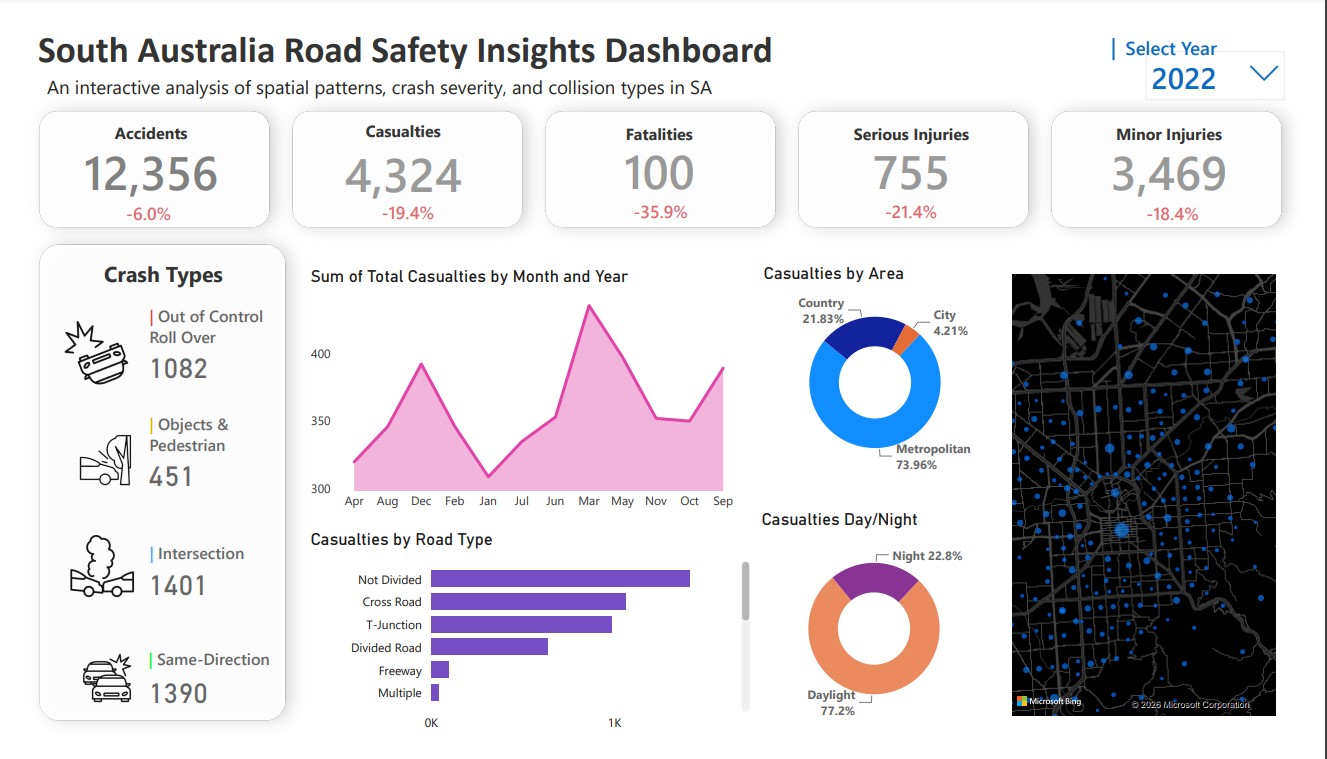

This screenshot's page, from the dashboard's own definition file:
{"tool":"powerbi","page":{"name":"Page 1","canvas":[1280,720],"ordinal":0},"visuals":[{"type":"group","id":"g1","title":"Group 2","box":[286.1,100.1,195,119.4],"z":0,"group":"g3"},{"type":"group","id":"g2","title":"Group 3","box":[286.1,100.1,195,119.4],"z":0,"group":"g1"},{"type":"cardVisual","title":"Casualties","fields":{"Data":["bb05bb0d-f9a4-4638-8992-81d5fb9.CY Casualties"]},"box":[286.1,100.1,195,87.5],"z":0,"group":"g2"},{"type":"cardVisual","title":"Accidents","fields":{"Data":["bb05bb0d-f9a4-4638-8992-81d5fb9.Total CY Accidents"]},"box":[35.2,101.9,194,84],"z":0,"group":"g4"},{"type":"cardVisual","title":" Minor Injuries","fields":{"Data":["bb05bb0d-f9a4-4638-8992-81d5fb9.CY Casualties"]},"box":[1050,102.5,195.3,82.7],"z":0,"group":"g7"},{"type":"cardVisual","title":" Serious Injuries","fields":{"Data":["bb05bb0d-f9a4-4638-8992-81d5fb9.CY Casualties"]},"box":[792,102.9,197.3,82],"z":0,"group":"g6"},{"type":"cardVisual","title":"Fatalities","fields":{"Data":["bb05bb0d-f9a4-4638-8992-81d5fb9.CY Casualties"]},"box":[541.4,103.1,196.2,81.5],"z":0,"group":"g5"},{"type":"shape","title":"LEFT Bottom","box":[0,202.9,285.7,515.7],"z":0},{"type":"cardVisual","fields":{"Data":["bb05bb0d-f9a4-4638-8992-81d5fb9.YoY Casualties"]},"box":[835.4,156,131.5,65.1],"z":1000,"group":"g6"},{"type":"cardVisual","fields":{"Data":["bb05bb0d-f9a4-4638-8992-81d5fb9.YoY Casualties"]},"box":[584.8,156.2,130.3,63.9],"z":1000,"group":"g5"},{"type":"cardVisual","fields":{"Data":["bb05bb0d-f9a4-4638-8992-81d5fb9.YoY Casualties"]},"box":[333.2,159.2,131.5,60.3],"z":1000,"group":"g2"},{"type":"cardVisual","fields":{"Data":["bb05bb0d-f9a4-4638-8992-81d5fb9.YoY Casualties"]},"box":[1095.8,159.2,131.5,60.3],"z":1000,"group":"g7"},{"type":"cardVisual","fields":{"Data":["bb05bb0d-f9a4-4638-8992-81d5fb9.YoY Accidents"]},"box":[78.6,159.8,131.5,61.5],"z":1000,"group":"g4"},{"type":"cardVisual","title":"vasdv","fields":{"Data":["bb05bb0d-f9a4-4638-8992-81d5fb9.CY Casualties"],"Rows":["bb05bb0d-f9a4-4638-8992-81d5fb9.Crash Type (groups)"]},"box":[97.1,267.1,378.6,434.3],"z":1000},{"type":"shape","title":"Card 1","box":[0,70,270.2,156.8],"z":2000},{"type":"shape","title":"Card 3","box":[504.9,70,270.2,156.8],"z":3000},{"type":"image","box":[24.3,273.4,105.7,117.1],"z":3000,"group":"g8"},{"type":"shape","title":"Card 2","box":[252.4,70,270.2,156.8],"z":4000},{"type":"shape","title":"Card 4","box":[757.3,70,270.2,156.8],"z":5000},{"type":"image","box":[42.9,383.4,91.4,110],"z":5000,"group":"g8"},{"type":"shape","title":"Card 5","box":[1009.8,70,270.2,156.8],"z":6000},{"type":"image","box":[31.4,469.1,98.6,151.4],"z":7000,"group":"g8"},{"type":"slicer","title":"Select Year","fields":{"Values":["Calendar.Year"]},"box":[1117.1,24.3,152.9,67.1],"z":8000},{"type":"image","box":[50,596.3,77.1,122.9],"z":9000,"group":"g8"},{"type":"group","id":"g3","title":"Group 1","box":[286.1,100.1,195,119.4],"z":10000},{"type":"group","id":"g4","title":"Group 1","box":[35.2,101.9,194,119.4],"z":11000},{"type":"group","id":"g5","title":"Group 3","box":[541.4,103.1,196.2,117],"z":12000},{"type":"group","id":"g6","title":"Group 3","box":[792,102.9,197.3,118.2],"z":13000},{"type":"group","id":"g7","title":"Group 3","box":[1050,102.5,195.3,117],"z":14000},{"type":"textbox","box":[14.3,1.4,748.6,67.1],"z":15000},{"type":"textbox","box":[80,232.9,165.7,68.6],"z":16000},{"type":"areaChart","fields":{"Category":["Calendar.Month"],"Y":["Sum(bb05bb0d-f9a4-4638-8992-81d5fb9.Total Casualties)"],"Series":["Calendar.Date.Variation.Date Hierarchy.Year"]},"box":[285.7,244.7,435.7,252.9],"z":17000},{"type":"donutChart","title":"Casualties by Area","fields":{"Y":["bb05bb0d-f9a4-4638-8992-81d5fb9.CY Casualties"],"Category":["bb05bb0d-f9a4-4638-8992-81d5fb9.Stats Area.2"]},"box":[737.5,241.9,232.5,220],"z":18000},{"type":"donutChart","title":"Casualties Day/Night","fields":{"Y":["bb05bb0d-f9a4-4638-8992-81d5fb9.CY Casualties"],"Category":["bb05bb0d-f9a4-4638-8992-81d5fb9.DayNight"]},"box":[736.2,488.1,233.8,218.8],"z":19000},{"type":"barChart","title":"Casualties by Road Type","fields":{"Y":["bb05bb0d-f9a4-4638-8992-81d5fb9.CY Casualties"],"Category":["bb05bb0d-f9a4-4638-8992-81d5fb9.Position Type"]},"box":[285.7,507.6,448.6,211.4],"z":20000},{"type":"map","title":"Casualties by Location","fields":{"Size":["bb05bb0d-f9a4-4638-8992-81d5fb9.CY Casualties"],"Category":["bb05bb0d-f9a4-4638-8992-81d5fb9.Full_Address"]},"box":[985.7,230.4,272.9,468.6],"z":21000},{"type":"textbox","box":[124.7,278.6,240,55.7],"z":22000},{"type":"textbox","box":[124.7,387.1,238.6,57.1],"z":23000},{"type":"textbox","box":[124.7,515.7,125.7,55.7],"z":24000},{"type":"textbox","box":[124.3,621.4,145.7,55.7],"z":25000},{"type":"group","id":"g8","title":"Group 4","box":[24.3,273.4,110,445.7],"z":26000},{"type":"textbox","box":[1098.6,10,115.7,44.3],"z":27000},{"type":"shape","box":[974.2,18.3,235.8,21.7],"z":28000},{"type":"textbox","box":[22.9,48.6,700,40],"z":29000}]}

Visuals, with their boxes in screenshot pixels (x1, y1, x2, y2), scaled from the page's 1280x720 canvas onto the 1327x759 screenshot:
"Group 2" group: bbox(297, 106, 499, 231)
"Group 3" group: bbox(297, 106, 499, 231)
"Casualties" cardVisual: bbox(297, 106, 499, 198)
"Accidents" cardVisual: bbox(36, 107, 238, 196)
" Minor Injuries" cardVisual: bbox(1089, 108, 1291, 195)
" Serious Injuries" cardVisual: bbox(821, 108, 1026, 195)
"Fatalities" cardVisual: bbox(561, 109, 765, 195)
"LEFT Bottom" shape: bbox(0, 214, 296, 758)
cardVisual - bb05bb0d-f9a4-4638-8992-81d5fb9.YoY Casualties: bbox(866, 164, 1002, 233)
cardVisual - bb05bb0d-f9a4-4638-8992-81d5fb9.YoY Casualties: bbox(606, 165, 741, 232)
cardVisual - bb05bb0d-f9a4-4638-8992-81d5fb9.YoY Casualties: bbox(345, 168, 482, 231)
cardVisual - bb05bb0d-f9a4-4638-8992-81d5fb9.YoY Casualties: bbox(1136, 168, 1272, 231)
cardVisual - bb05bb0d-f9a4-4638-8992-81d5fb9.YoY Accidents: bbox(81, 168, 218, 233)
"vasdv" cardVisual: bbox(101, 282, 493, 739)
"Card 1" shape: bbox(0, 74, 280, 239)
"Card 3" shape: bbox(523, 74, 804, 239)
image: bbox(25, 288, 135, 412)
"Card 2" shape: bbox(262, 74, 542, 239)
"Card 4" shape: bbox(785, 74, 1065, 239)
image: bbox(44, 404, 139, 520)
"Card 5" shape: bbox(1047, 74, 1326, 239)
image: bbox(33, 495, 135, 654)
"Select Year" slicer: bbox(1158, 26, 1317, 96)
image: bbox(52, 629, 132, 758)
"Group 1" group: bbox(297, 106, 499, 231)
"Group 1" group: bbox(36, 107, 238, 233)
"Group 3" group: bbox(561, 109, 765, 232)
"Group 3" group: bbox(821, 108, 1026, 233)
"Group 3" group: bbox(1089, 108, 1291, 231)
textbox: bbox(15, 1, 791, 72)
textbox: bbox(83, 246, 255, 318)
areaChart - Calendar.Month x Sum(bb05bb0d-f9a4-4638-8992-81d5fb9.Total Casualties): bbox(296, 258, 748, 525)
"Casualties by Area" donutChart: bbox(765, 255, 1006, 487)
"Casualties Day/Night" donutChart: bbox(763, 515, 1006, 745)
"Casualties by Road Type" barChart: bbox(296, 535, 761, 758)
"Casualties by Location" map: bbox(1022, 243, 1305, 737)
textbox: bbox(129, 294, 378, 352)
textbox: bbox(129, 408, 377, 468)
textbox: bbox(129, 544, 260, 602)
textbox: bbox(129, 655, 280, 714)
"Group 4" group: bbox(25, 288, 139, 758)
textbox: bbox(1139, 11, 1259, 57)
shape: bbox(1010, 19, 1254, 42)
textbox: bbox(24, 51, 749, 93)
